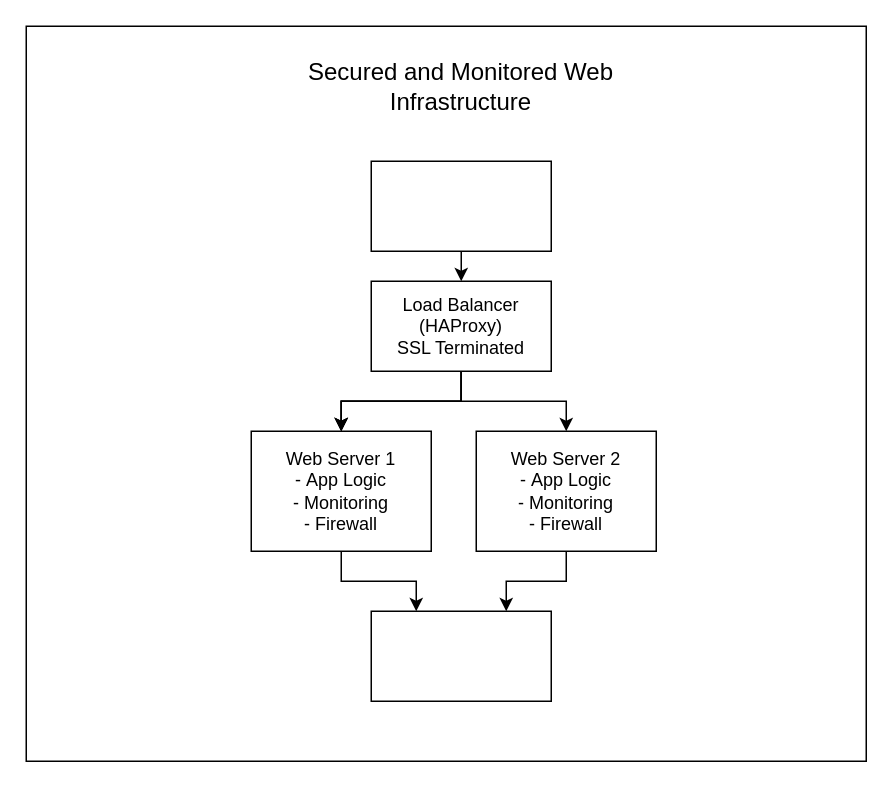
Image size: 893x788. Some labels were removed from this diagram. The centre of each missing label's shape, as x and y in pixels:
MySQL Server - Monitoring Agent - Firewall: the point at 460,655
User Browser (HTTPS): the point at 460,205
